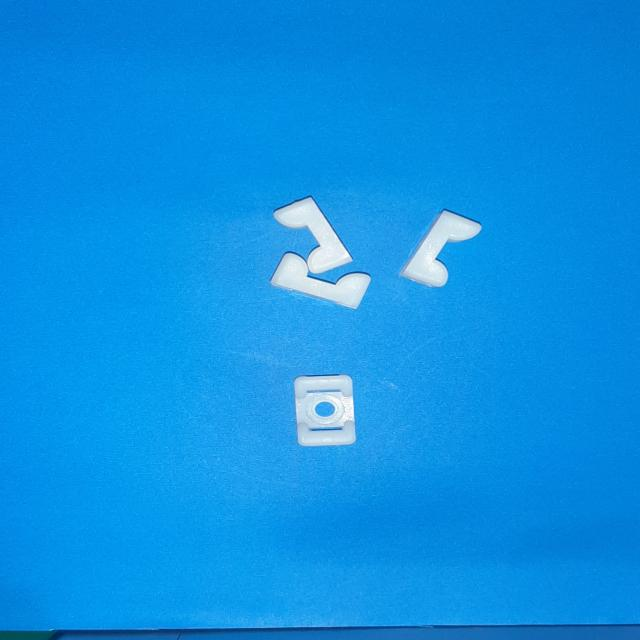false_2: (400, 210, 482, 288), (273, 196, 352, 274), (270, 252, 370, 309)
true: (295, 375, 357, 446)
true_center: (315, 402, 335, 417)
